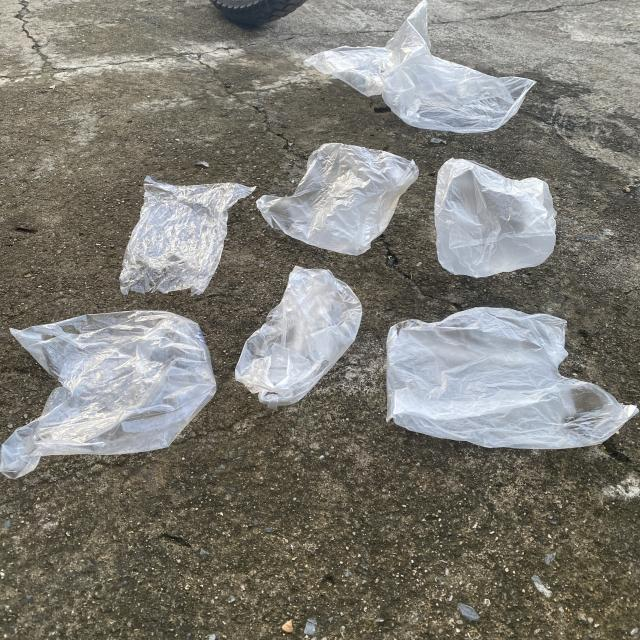Single-layer Plastic: (0, 311, 216, 479), (386, 308, 639, 449), (305, 0, 535, 132), (256, 142, 419, 255), (235, 266, 362, 410), (120, 176, 254, 294), (435, 159, 556, 278)
